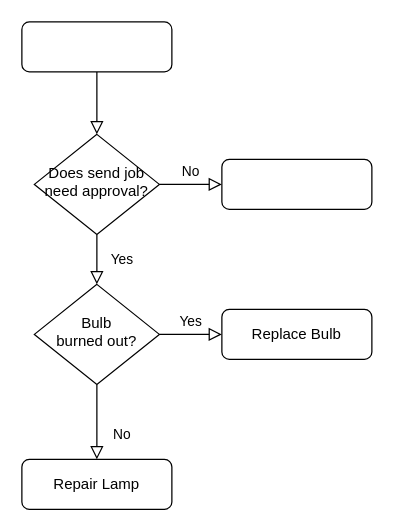
Some shapes in this 394 by 531 pixel diagram are drawn without their labels. Each missing label, with the centre of its shape:
"Plug in lamp" goes at pixel 296 183.
"Send job created" goes at pixel 96 46.
